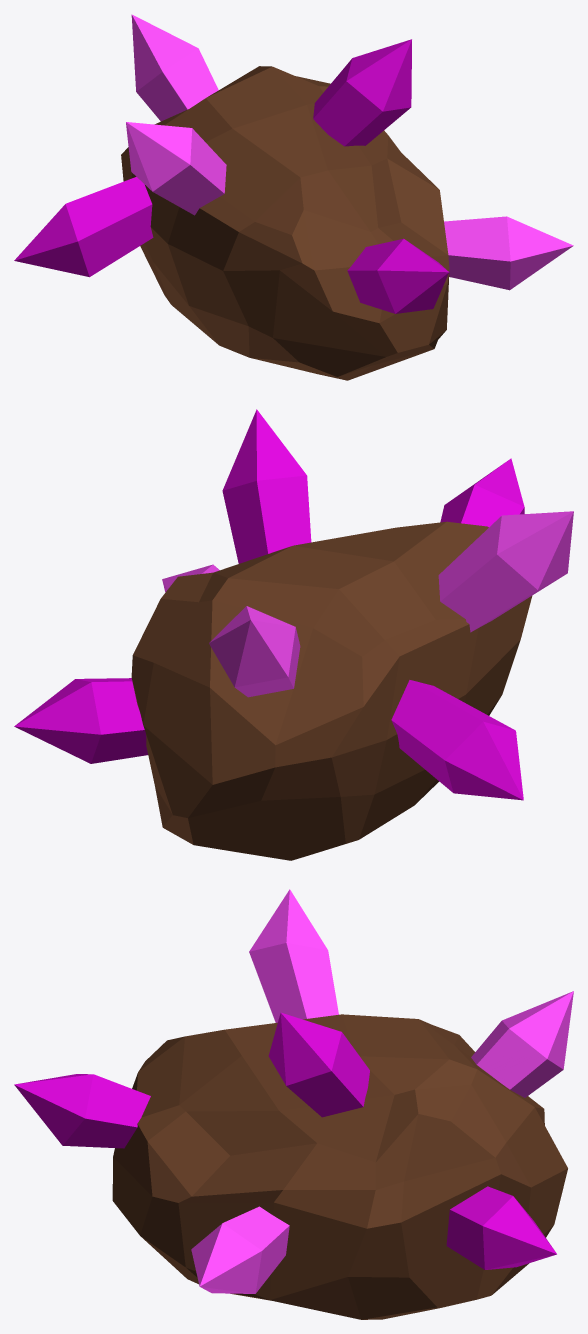
The model's file is MineralNode_01_A.fbx.
3 views of the same model, one above another, from view 1: azimuth 30°, elevation 25°; view 2: azimuth 150°, elevation 25°; view 3: azimuth 270°, elevation 25° (orthographic). The views are drawn at different scales.
Parts seen in each view (by area): view 1: MineralNode_01_A; view 2: MineralNode_01_A; view 3: MineralNode_01_A.
Part boxes in pixels (box(x1,y1,x2,y2)): MineralNode_01_A: box(14, 14, 573, 380); MineralNode_01_A: box(14, 409, 573, 860); MineralNode_01_A: box(14, 889, 573, 1319).
Size of the model in its own units: 117 by 78.18 by 127.
